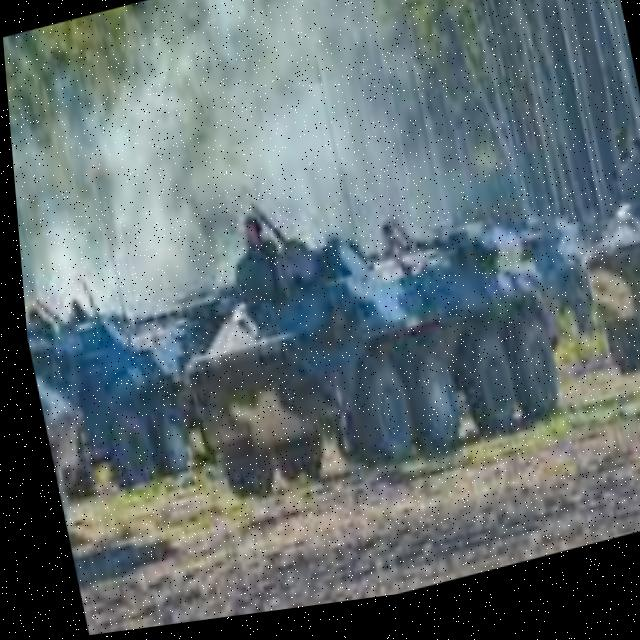MIL_APC: (140, 162, 602, 560)
